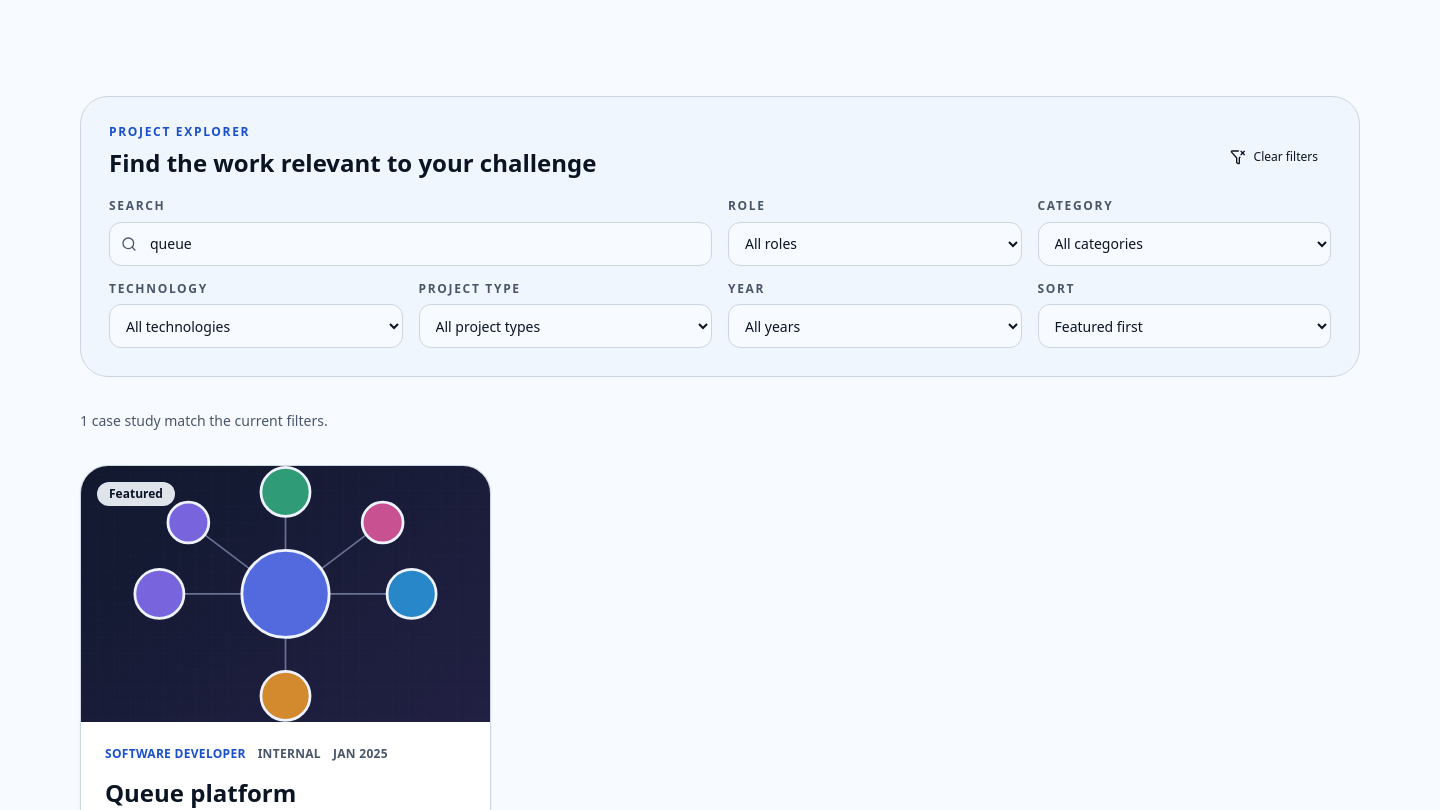
Test case: public discovery components › restores the full curated Project snapshot when an SSR filter is cleared without escaping to the public collection
The image size is (1440, 810).
Expected: the link "Queue platform" is shown, [105,776,296,809]
Expected: the text "Design system" is not shown
Click the button "Clear filters": (1274, 157) [1217,135,1331,179]
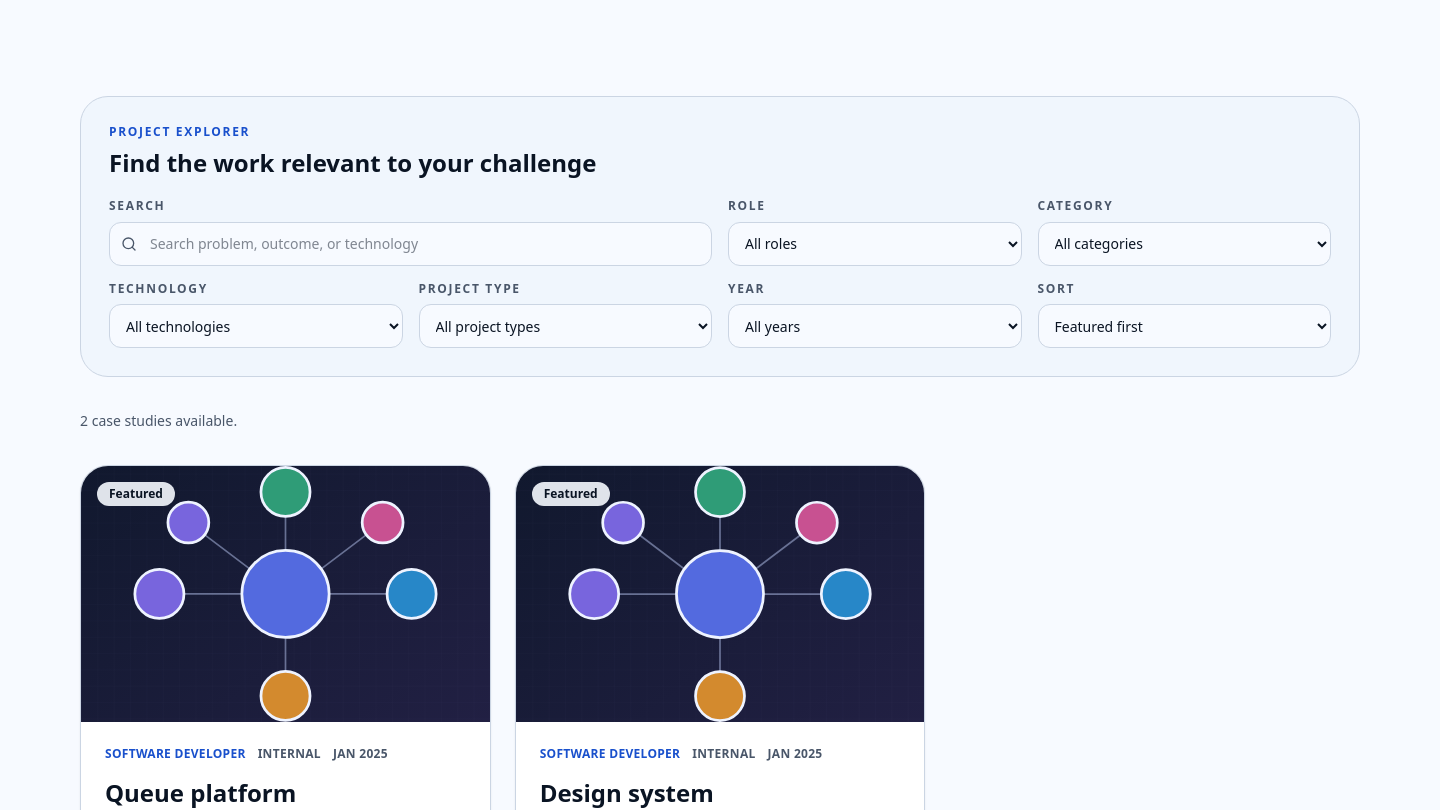
Expected: the link "Queue platform" is shown, [105,776,296,809]
Expected: the link "Design system" is shown, [540,776,714,809]
